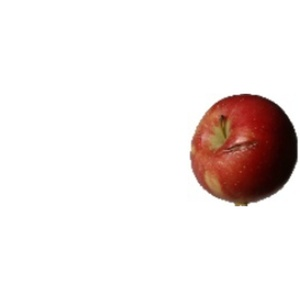maçã braeburn: (189, 92, 298, 203)
